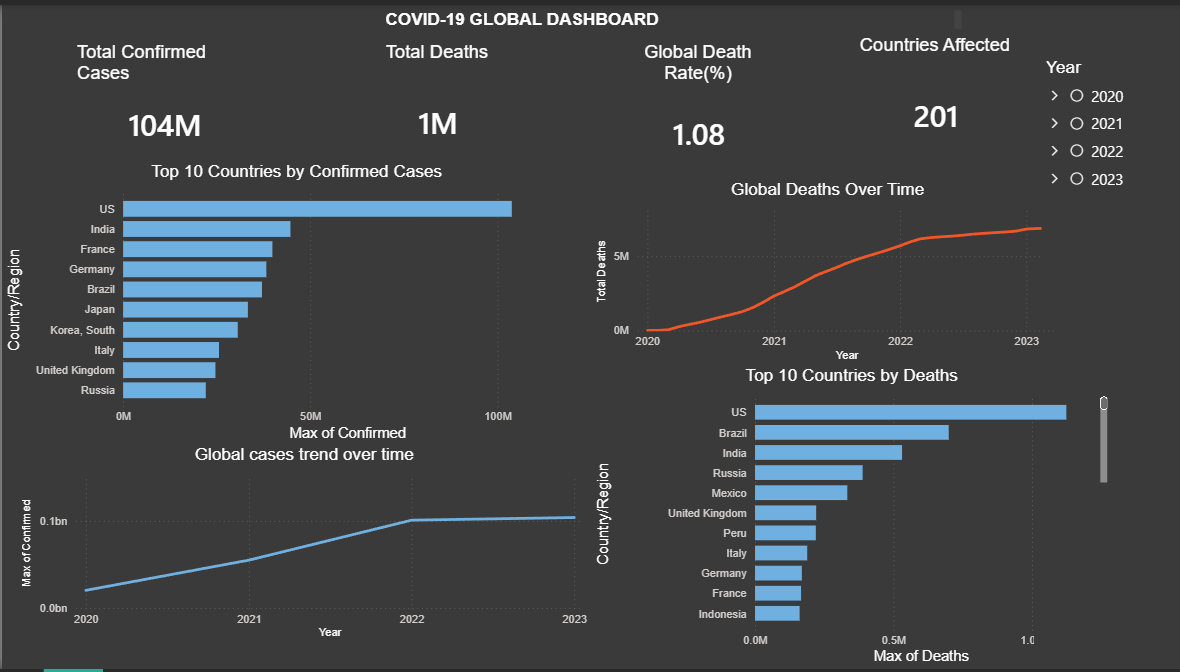

This screenshot's page, from the dashboard's own definition file:
{"tool":"powerbi","page":{"name":"Page 1","canvas":[1280,720],"ordinal":0},"visuals":[{"type":"cardVisual","title":"Total Confirmed Cases","fields":{"Data":["Max(global_covid_clean.Confirmed)"]},"box":[76.4,40.7,198.4,130.1],"z":0},{"type":"cardVisual","title":"Total Deaths","fields":{"Data":["Max(global_covid_clean.Deaths)"]},"box":[372.5,40.7,198.4,149.6],"z":1000},{"type":"cardVisual","title":"Global Death Rate(%)","fields":{"Data":["global_covid_clean.Global Death Rate"]},"box":[655.5,40.7,198.4,149.6],"z":2000},{"type":"cardVisual","title":"Countries Affected","fields":{"Data":["global_covid_clean.Countries Affected"]},"box":[912.5,32.5,198.4,149.6],"z":3000},{"type":"lineChart","title":"Global cases trend over time","fields":{"Category":["global_covid_clean.Date.Variation.Date Hierarchy.Year","global_covid_clean.Date.Variation.Date Hierarchy.Month"],"Y":["Max(global_covid_clean.Confirmed)"]},"box":[16.3,478.2,623,214.7],"z":4000},{"type":"clusteredBarChart","title":"Top 10 Countries by Confirmed Cases","fields":{"Category":["global_covid_clean.Country/Region"],"Y":["Max(global_covid_clean.Confirmed)"]},"box":[0,170.8,671.8,307.4],"z":5000},{"type":"clusteredBarChart","title":"Top 10 Countries by Deaths","fields":{"Category":["global_covid_clean.Country/Region"],"Y":["Max(global_covid_clean.Deaths)"]},"box":[655.5,392,624.6,328.6],"z":6000},{"type":"lineChart","title":"Global Deaths Over Time","fields":{"Category":["global_covid_clean.Date.Variation.Date Hierarchy.Year","global_covid_clean.Date.Variation.Date Hierarchy.Month"],"Y":["global_covid_clean.Total Deaths"]},"box":[662,190.3,600.2,201.7],"z":7000},{"type":"textbox","box":[1119,281,161,221],"z":8000},{"type":"textbox","box":[1119,519,161,201],"z":9000},{"type":"textbox","box":[96,1.6,949.9,30.9],"z":10000}]}

Visuals, with their boxes in screenshot pixels (x1, y1, x2, y2), scaled from the page's 1280x720 canvas onto the 1180x672 screenshot:
"Total Confirmed Cases" cardVisual: [70, 38, 253, 159]
"Total Deaths" cardVisual: [343, 38, 526, 178]
"Global Death Rate(%)" cardVisual: [604, 38, 787, 178]
"Countries Affected" cardVisual: [841, 30, 1024, 170]
"Global cases trend over time" lineChart: [15, 446, 589, 647]
"Top 10 Countries by Confirmed Cases" clusteredBarChart: [0, 159, 619, 446]
"Top 10 Countries by Deaths" clusteredBarChart: [604, 366, 1179, 671]
"Global Deaths Over Time" lineChart: [610, 178, 1164, 366]
textbox: [1032, 262, 1179, 469]
textbox: [1032, 484, 1179, 671]
textbox: [88, 1, 964, 30]
